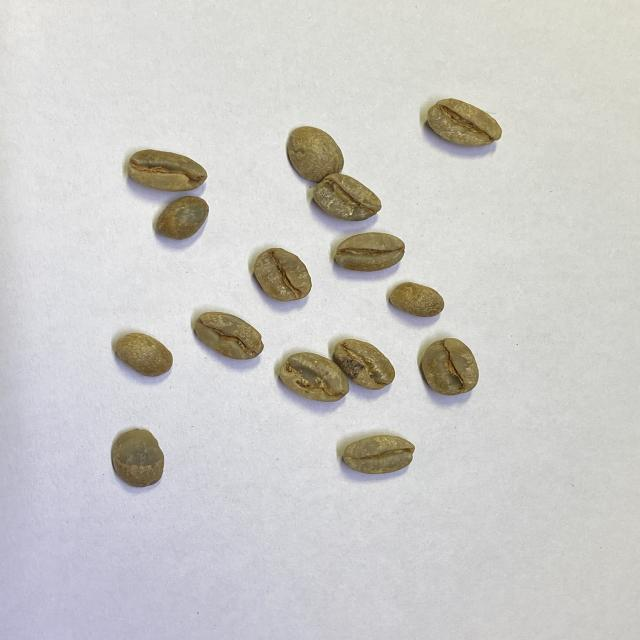bad: (334, 337, 396, 393), (280, 352, 350, 401), (315, 173, 381, 224), (254, 247, 312, 304)
good: (426, 97, 502, 150), (420, 337, 481, 396), (191, 312, 263, 361), (127, 149, 207, 193), (110, 427, 166, 489), (286, 124, 345, 181), (342, 433, 416, 475), (334, 232, 405, 274), (110, 331, 172, 379), (153, 195, 207, 241), (388, 282, 448, 319)
